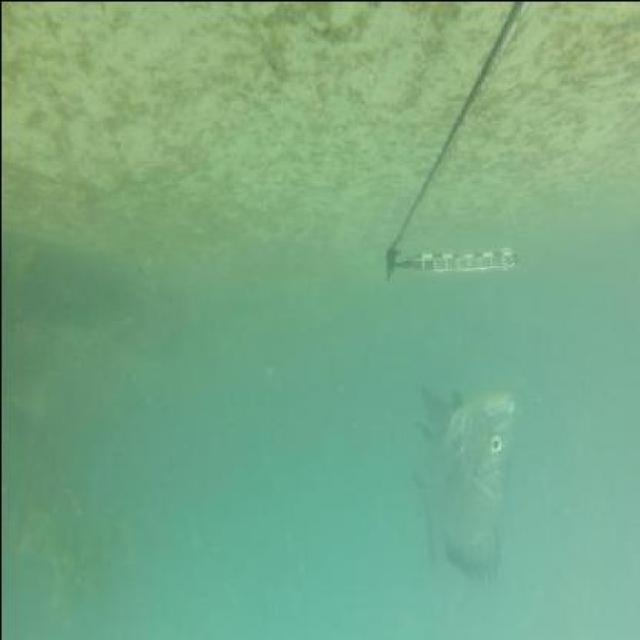acanthopagrus_palmaris: (406, 377, 516, 586)
